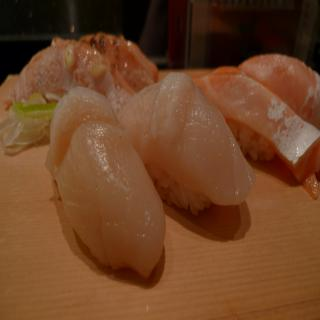Sushi: (4, 31, 320, 282), (127, 78, 253, 218)
